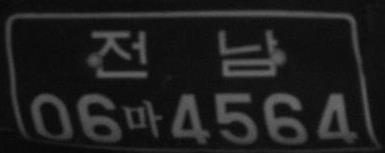0: (28, 91, 75, 142)
4: (316, 91, 359, 145), (170, 92, 210, 145)
5: (214, 91, 259, 145)
6: (262, 91, 309, 145), (76, 91, 123, 143)
마: (124, 99, 162, 138)
전남_D: (90, 27, 277, 79)
